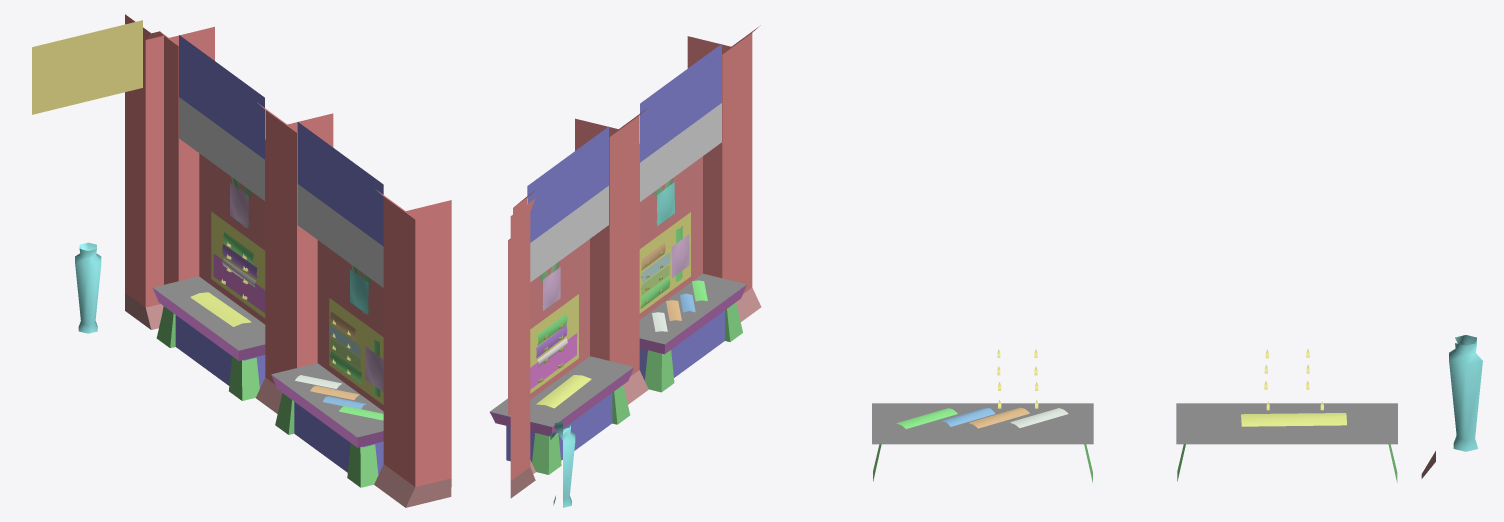
The model's file is interior_B_delf_store_14.gltf.
The picture shows the model from 3 angles, left to right: view 1: azimuth 30°, elevation 25°; view 2: azimuth 150°, elevation 25°; view 3: azimuth 270°, elevation 25°; orthographic projection. The views are drawn at different scales.
Visible parts, largest first — view 1: interior_B_delf_store_14; view 2: interior_B_delf_store_14; view 3: interior_B_delf_store_14.
Boxes of the visible parts, box(x1,y1,x2,y2) form: interior_B_delf_store_14: box(32, 14, 451, 507); interior_B_delf_store_14: box(490, 25, 761, 507); interior_B_delf_store_14: box(872, 335, 1482, 482).
Size of the model in its own units: 0.9882 by 1.62 by 2.63.
